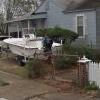Boat: (2, 26, 75, 71)
